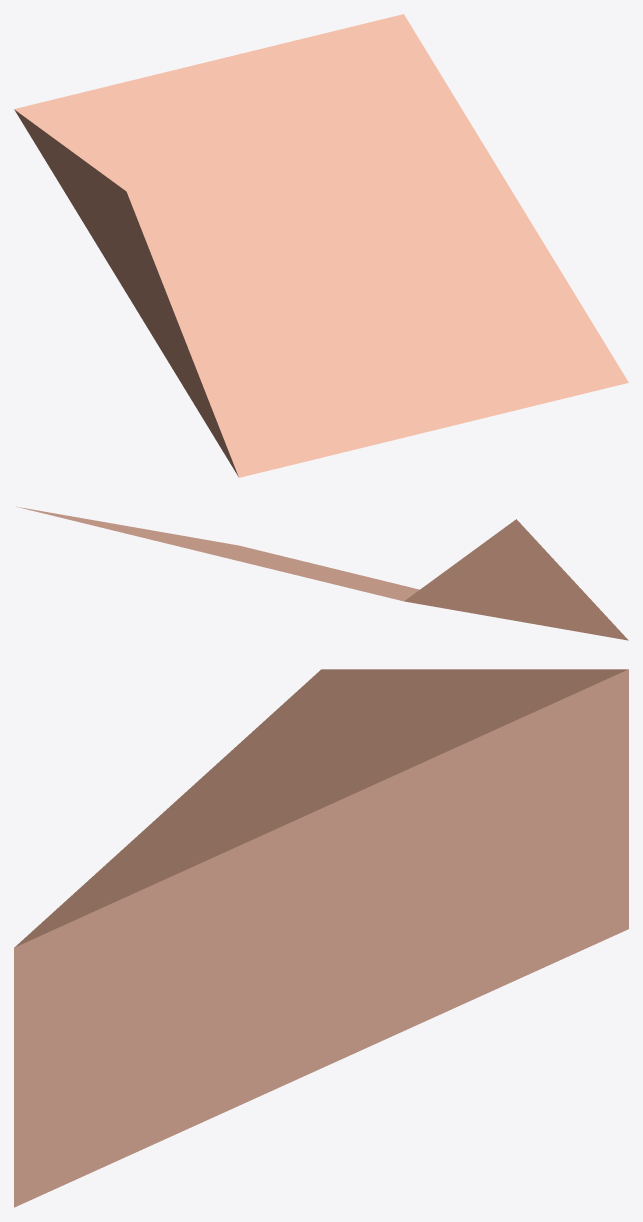
Rendered from rampSideLeft.dae.
The picture shows the model from 3 angles, top to bottom: view 1: azimuth 30°, elevation 25°; view 2: azimuth 150°, elevation 25°; view 3: azimuth 270°, elevation 25°; orthographic projection. The views are drawn at different scales.
Visible parts, largest first — view 1: terrain_ramp; view 2: terrain_ramp; view 3: terrain_ramp.
Part boxes in pixels (x1,y1,x2,y2): terrain_ramp: (14, 14, 628, 477); terrain_ramp: (16, 506, 628, 640); terrain_ramp: (14, 669, 628, 1207).
Bounding box in the file's own units: 1 × 1 × 0.5.
